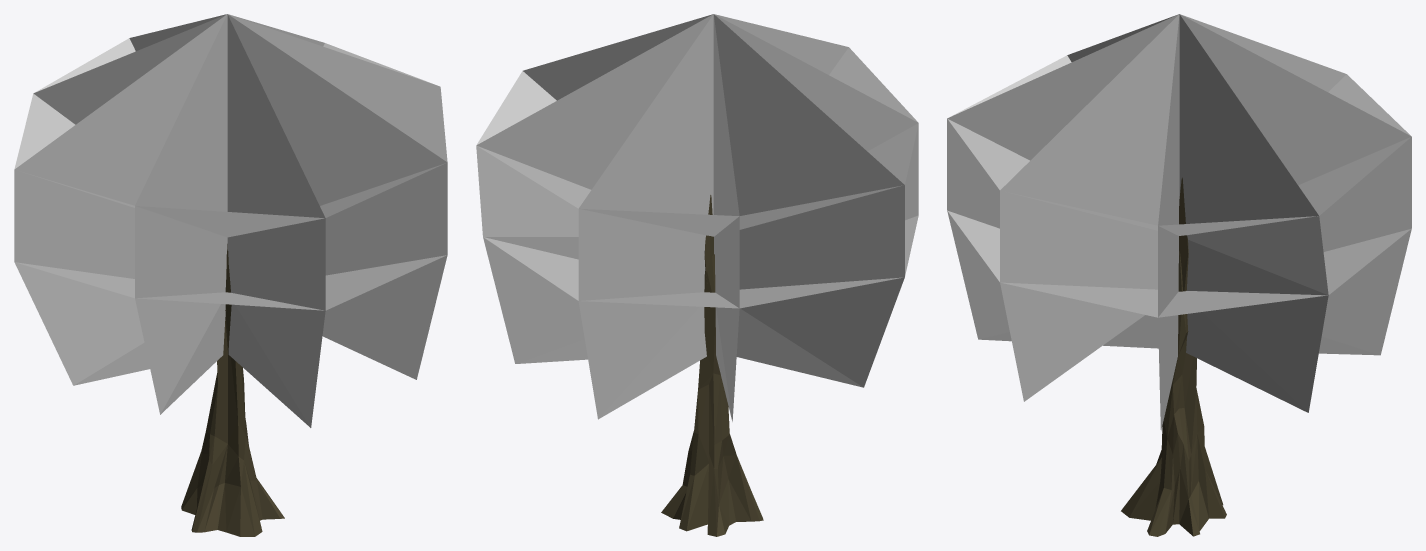
File: ADDON_PLANTS_TREE_03_279P.OBJ
3 renders of one model, left to right at view 1: azimuth 30°, elevation 25°; view 2: azimuth 150°, elevation 25°; view 3: azimuth 270°, elevation 25°, orthographic.
Parts seen in each view (by area): view 1: ADDON_PLANTS_TREE_03_279P; view 2: ADDON_PLANTS_TREE_03_279P; view 3: ADDON_PLANTS_TREE_03_279P.
Part boxes in pixels (left/top/right/bottom): ADDON_PLANTS_TREE_03_279P: left=14, top=14, right=447, bottom=536; ADDON_PLANTS_TREE_03_279P: left=476, top=14, right=918, bottom=536; ADDON_PLANTS_TREE_03_279P: left=947, top=14, right=1411, bottom=536.
Bounding box in the file's own units: 52.1 × 62.28 × 52.1.
